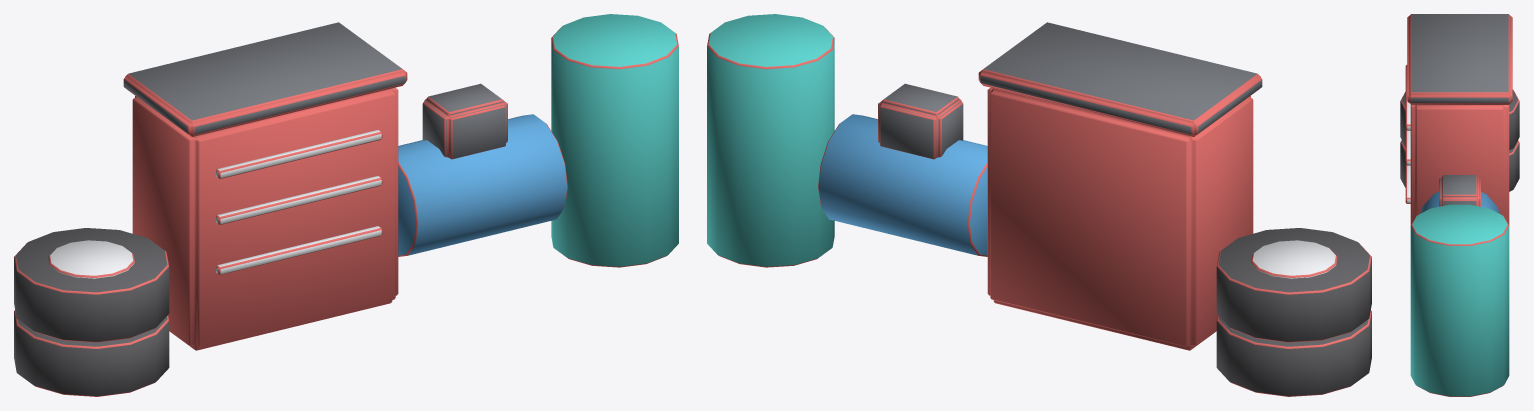
File: OW_GarageToolStation.fbx
3 renders of one model, left to right at view 1: azimuth 30°, elevation 25°; view 2: azimuth 150°, elevation 25°; view 3: azimuth 270°, elevation 25°, orthographic. The views are drawn at different scales.
Parts seen in each view (by area): view 1: ToolStation; view 2: ToolStation; view 3: ToolStation.
Part boxes in pixels (x1,y1,x2,y2): ToolStation: [14, 14, 678, 396]; ToolStation: [707, 14, 1371, 396]; ToolStation: [1400, 14, 1519, 396].
Bounding box in the file's own units: 322 × 122 × 68.
